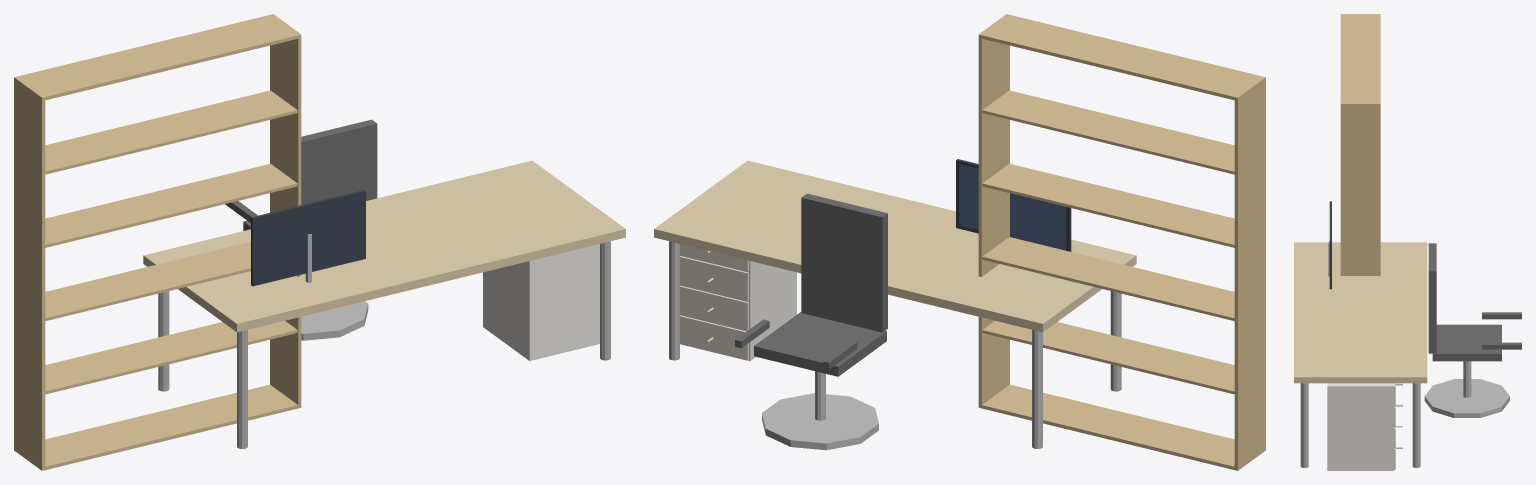
The model's file is office.glb.
3 views of the same model, side by side, from view 1: azimuth 30°, elevation 25°; view 2: azimuth 150°, elevation 25°; view 3: azimuth 270°, elevation 25° (orthographic). The views are drawn at different scales.
Parts seen in each view (by area): view 1: Office; view 2: Office; view 3: Office.
Part boxes in pixels (<box>): Office: <box>14,14,625,470</box>; Office: <box>654,14,1265,470</box>; Office: <box>1294,14,1521,470</box>.
Bounding box in the file's own units: 3.4 × 2.2 × 1.71.
